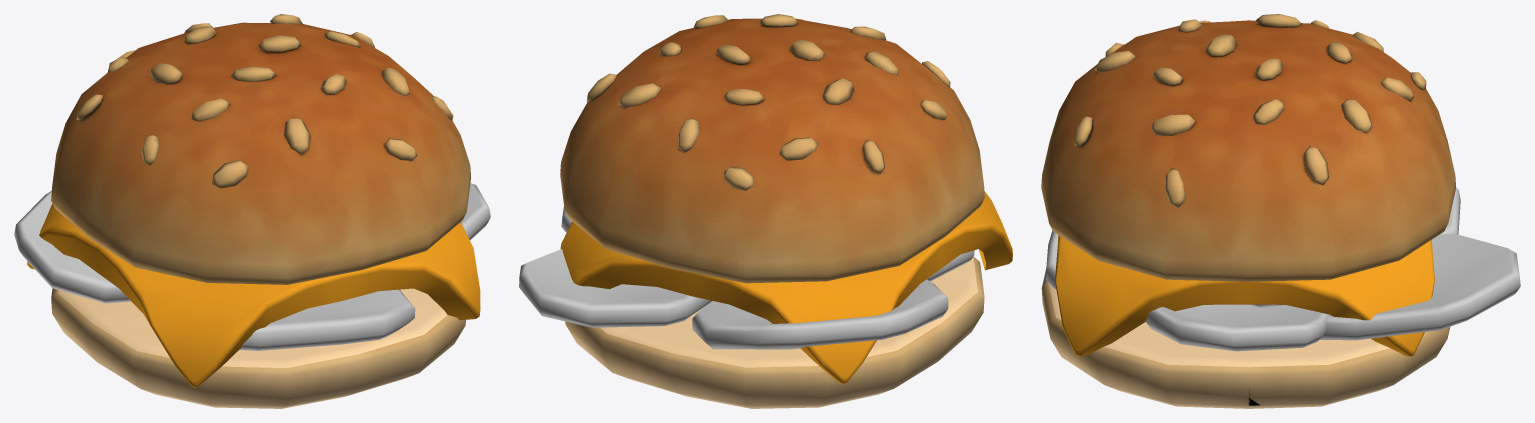
The model's file is Lettuce_cheese_burger.fbx.
The picture shows the model from 3 angles, left to right: view 1: azimuth 30°, elevation 25°; view 2: azimuth 150°, elevation 25°; view 3: azimuth 270°, elevation 25°; orthographic projection. The views are drawn at different scales.
Parts seen in each view (by area): view 1: m_ingredients_bun_lid_01_0, m_recipe_cheese_lettuce_burger_01_2, m_ingredients_bun_base_01_0, m_recipe_cheese_lettuce_burger_01_3; view 2: m_ingredients_bun_lid_01_0, m_ingredients_bun_base_01_0, m_recipe_cheese_lettuce_burger_01_2, m_recipe_cheese_lettuce_burger_01_3; view 3: m_ingredients_bun_lid_01_0, m_ingredients_bun_base_01_0, m_recipe_cheese_lettuce_burger_01_2, m_recipe_cheese_lettuce_burger_01_3.
Boxes of the visible parts, box(x1,y1,x2,y2) form: m_ingredients_bun_lid_01_0: box(51, 14, 470, 284); m_recipe_cheese_lettuce_burger_01_2: box(27, 203, 480, 387); m_ingredients_bun_base_01_0: box(51, 288, 466, 408); m_recipe_cheese_lettuce_burger_01_3: box(14, 183, 490, 350); m_ingredients_bun_lid_01_0: box(560, 14, 984, 283); m_ingredients_bun_base_01_0: box(565, 256, 984, 408); m_recipe_cheese_lettuce_burger_01_2: box(560, 191, 1012, 384); m_recipe_cheese_lettuce_burger_01_3: box(519, 207, 974, 349); m_ingredients_bun_lid_01_0: box(1041, 14, 1456, 281); m_ingredients_bun_base_01_0: box(1041, 268, 1449, 408); m_recipe_cheese_lettuce_burger_01_2: box(1055, 235, 1434, 356); m_recipe_cheese_lettuce_burger_01_3: box(1045, 188, 1520, 351).
Bounding box in the file's own units: 0.7104 × 0.4778 × 0.7214.
